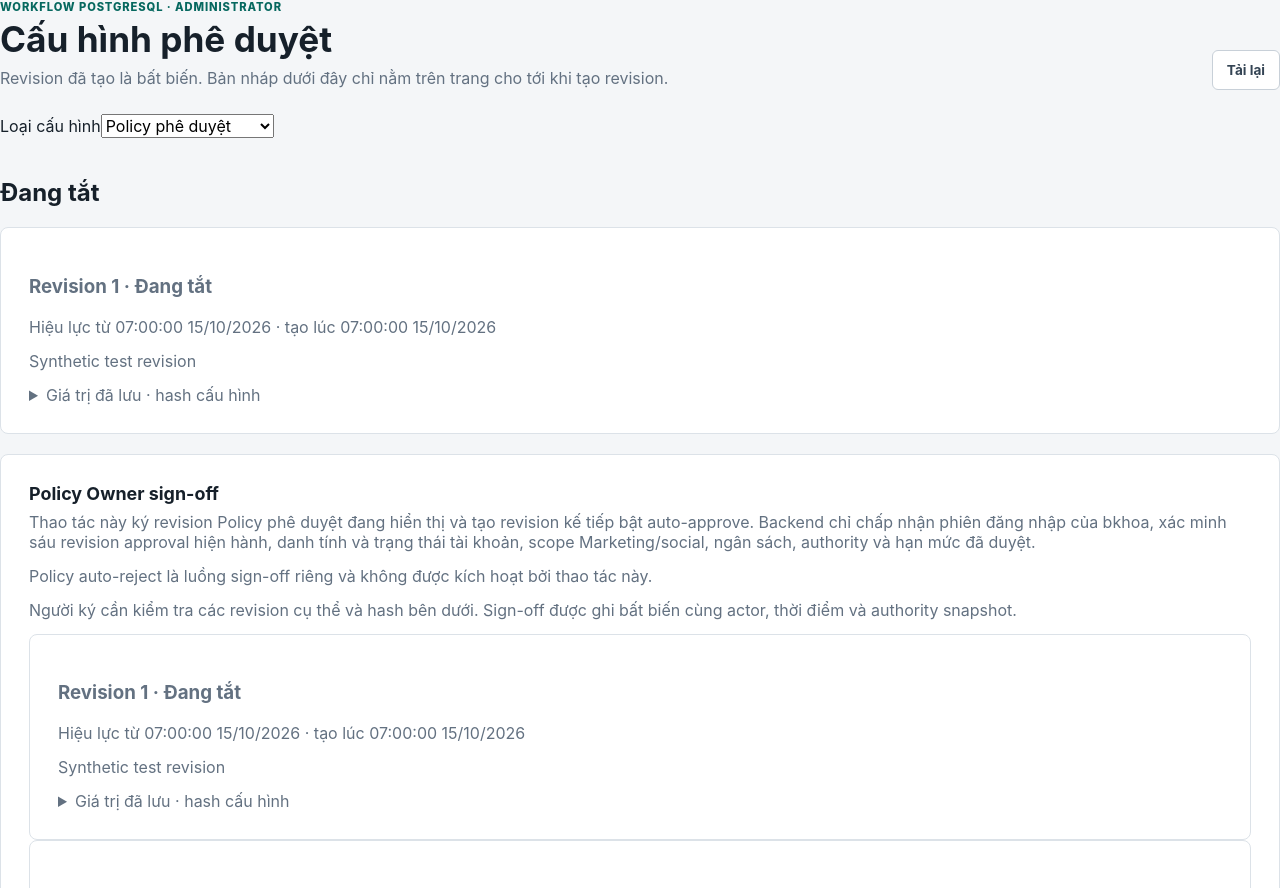
Test: Policy Owner sign-off UI › signs the exact displayed auto-reject candidate and all supporting revisions
The width and height of the screenshot is (1280, 888).
Select "Policy auto-reject" in the dropdown labelled "Loại cấu hình". click: {"x": 187, "y": 126}
box: [101,114,274,138]
(page scrolled)
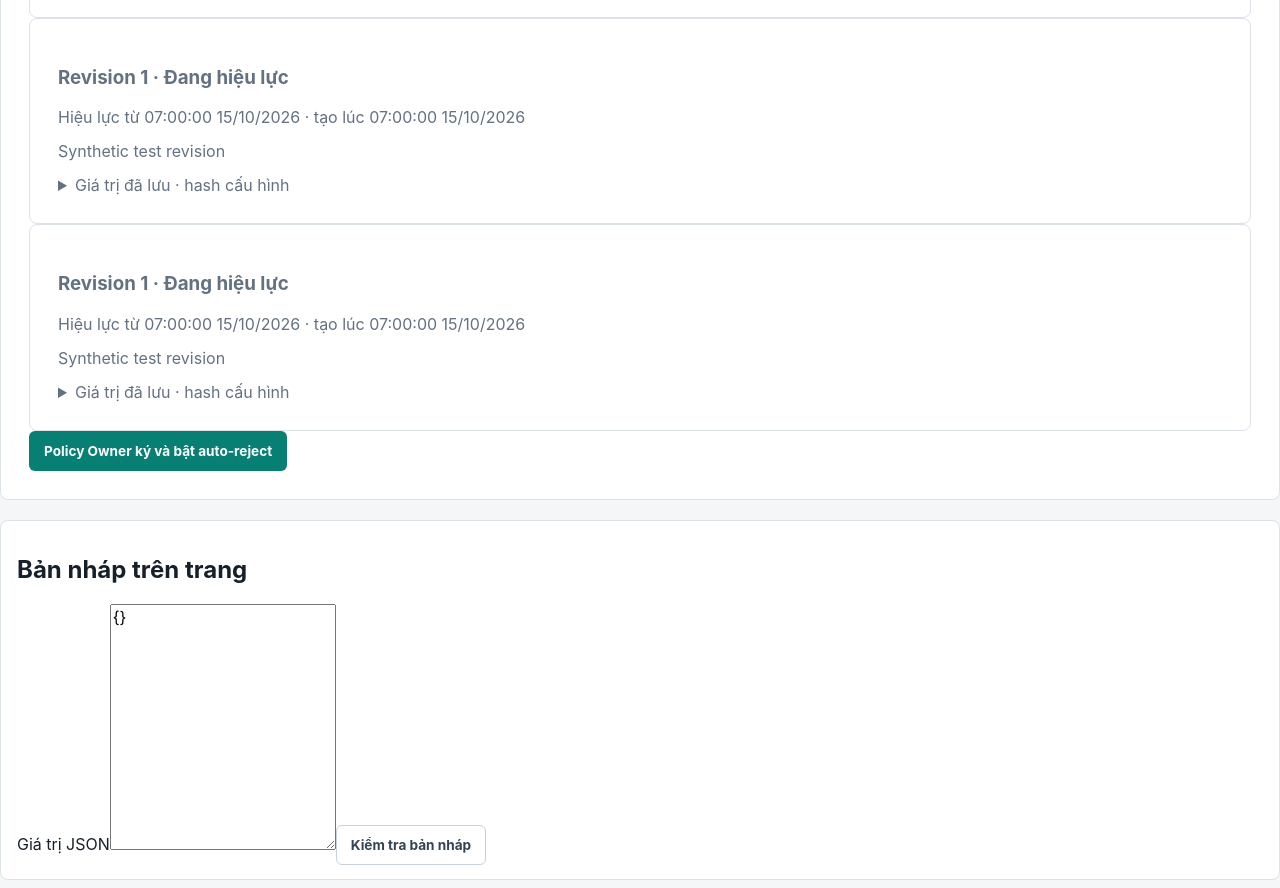
Click the button "Policy Owner ký và bật auto-reject". click: {"x": 158, "y": 451}
box: [29,431,287,471]
(page scrolled)
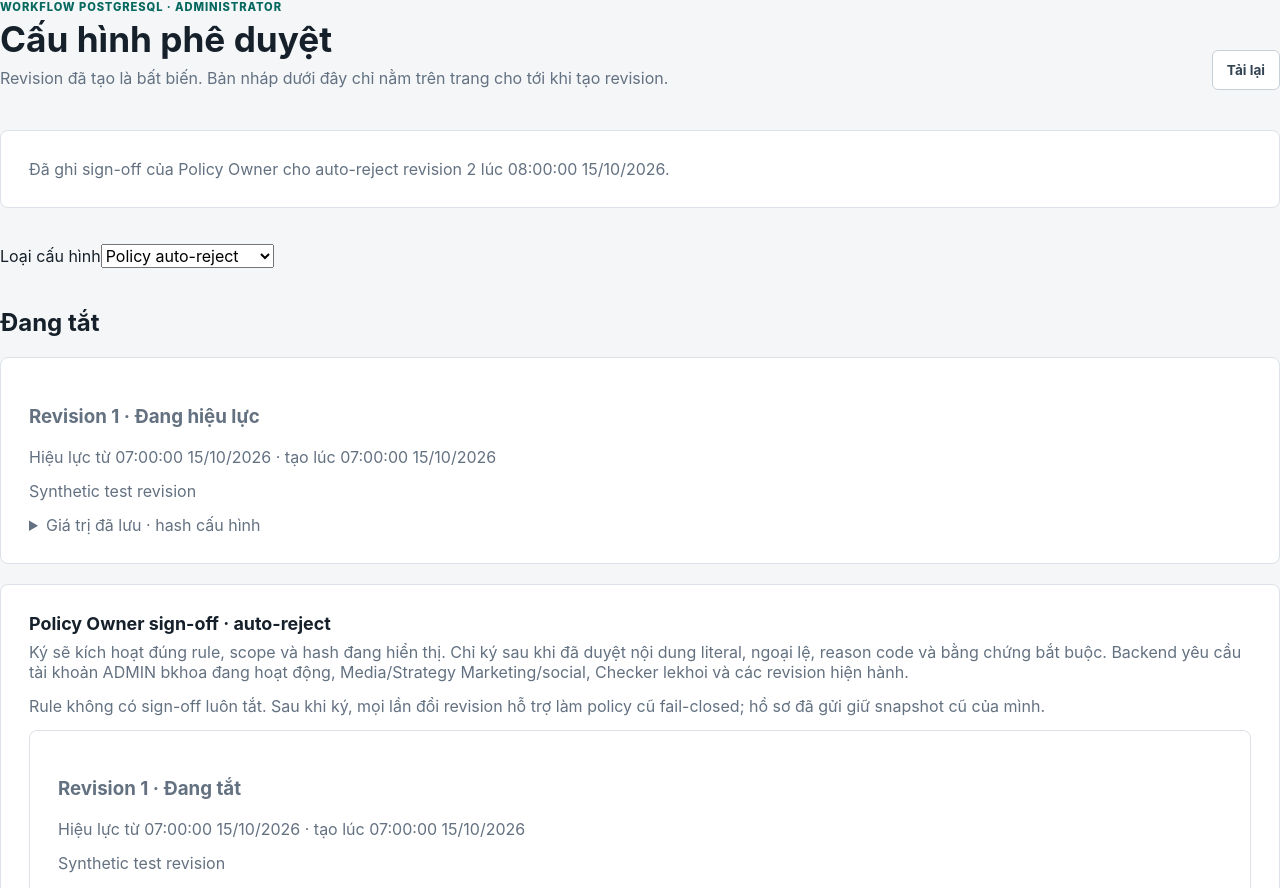
Result: the message shows "Đã ghi sign-off của Policy Owner cho auto-reject revision 2" at [29,160,670,180]
